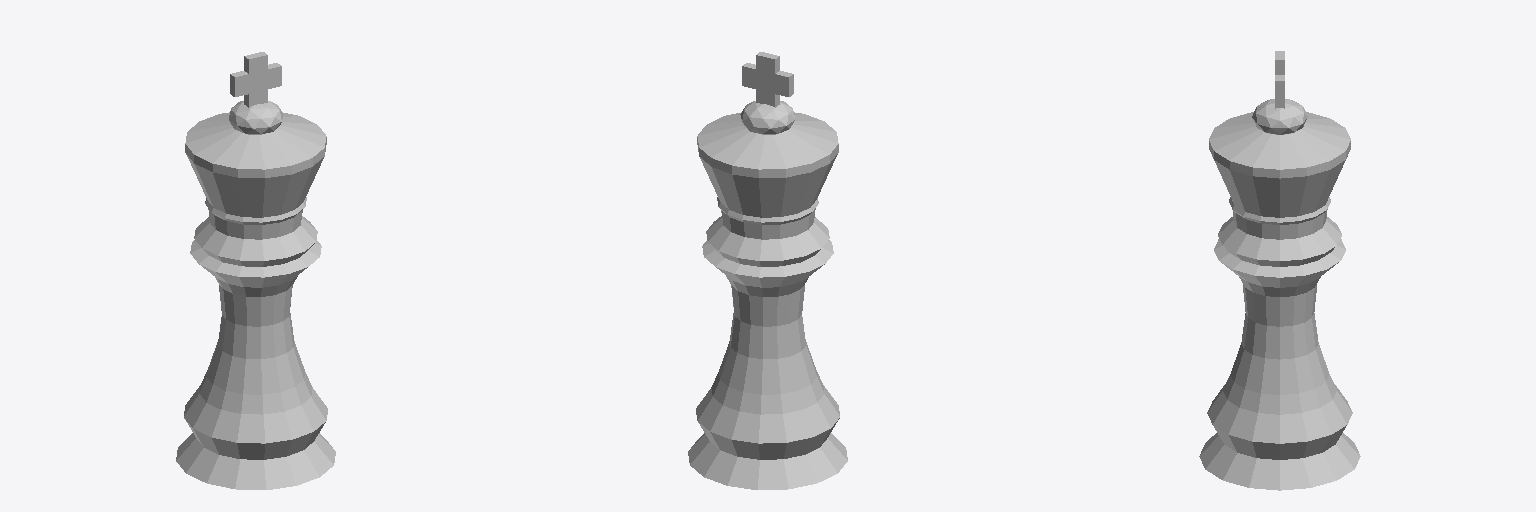
Rendered from king.obj.
The picture shows the model from 3 angles: view 1: azimuth 30°, elevation 25°; view 2: azimuth 150°, elevation 25°; view 3: azimuth 270°, elevation 25°; orthographic projection.
Visible parts, largest first — view 1: Cylinder.008, Cube.002, Icosphere.008; view 2: Cylinder.008, Cube.002, Icosphere.008; view 3: Cylinder.008, Icosphere.008, Cube.002.
Part boxes in pixels (bbox=[...]): Cylinder.008: bbox=[176, 112, 335, 489]; Cube.002: bbox=[230, 52, 281, 107]; Icosphere.008: bbox=[229, 101, 283, 134]; Cylinder.008: bbox=[688, 112, 847, 489]; Cube.002: bbox=[742, 52, 793, 107]; Icosphere.008: bbox=[740, 101, 794, 134]; Cylinder.008: bbox=[1199, 112, 1360, 490]; Icosphere.008: bbox=[1252, 99, 1307, 134]; Cube.002: bbox=[1275, 51, 1284, 108].
Bounding box in the file's own units: 3.68 × 10.07 × 3.68.